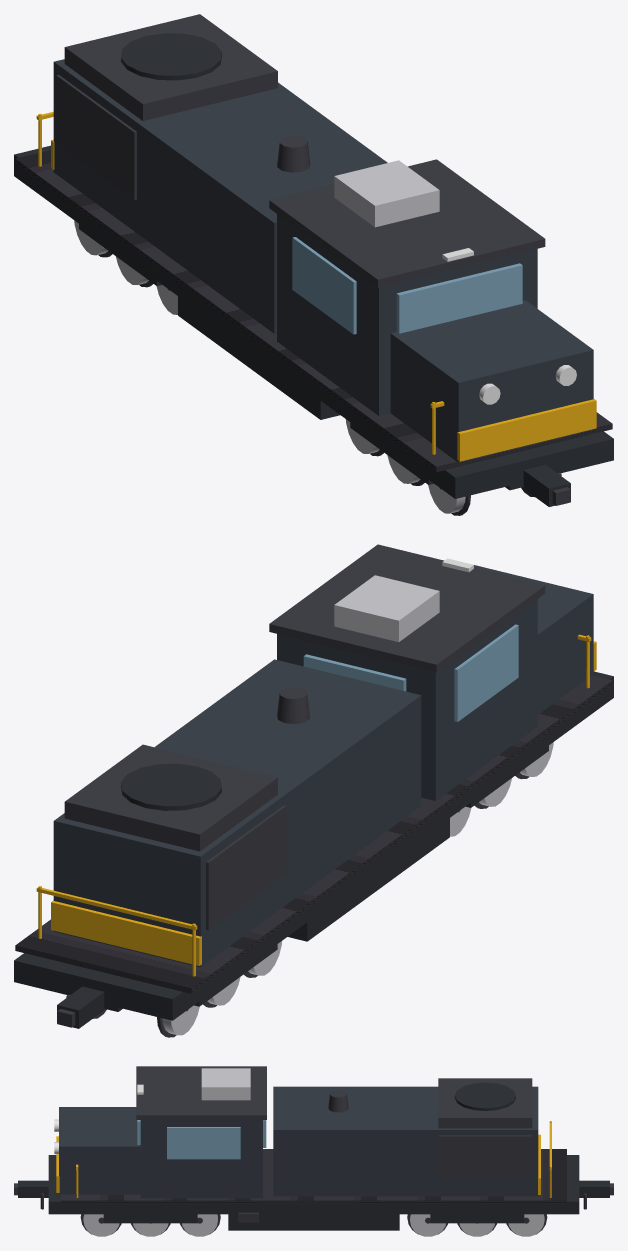
The picture shows the model from 3 angles, top to bottom: view 1: azimuth 30°, elevation 25°; view 2: azimuth 150°, elevation 25°; view 3: azimuth 270°, elevation 25°; orthographic projection. The views are drawn at different scales.
Bounding box in the file's own units: 6 × 7.95 × 29.4.
8 materials, 1 textured.
